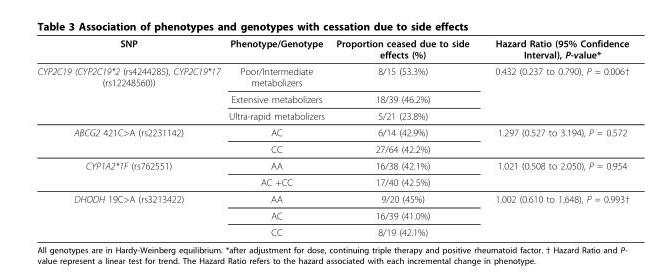table: (36, 37, 628, 237)
table column: (36, 37, 223, 237), (329, 37, 481, 237), (481, 37, 628, 237), (223, 37, 329, 237)
table column header: (36, 37, 628, 62)
table row: (36, 62, 628, 90), (36, 37, 628, 62), (36, 90, 628, 107), (36, 123, 628, 140), (36, 140, 628, 157), (36, 173, 628, 190), (36, 206, 628, 223), (36, 107, 628, 123), (36, 157, 628, 173), (36, 190, 628, 206), (36, 223, 628, 237)
table spanning cell: (36, 62, 223, 123), (36, 190, 223, 237), (36, 123, 223, 157), (36, 157, 223, 190)
